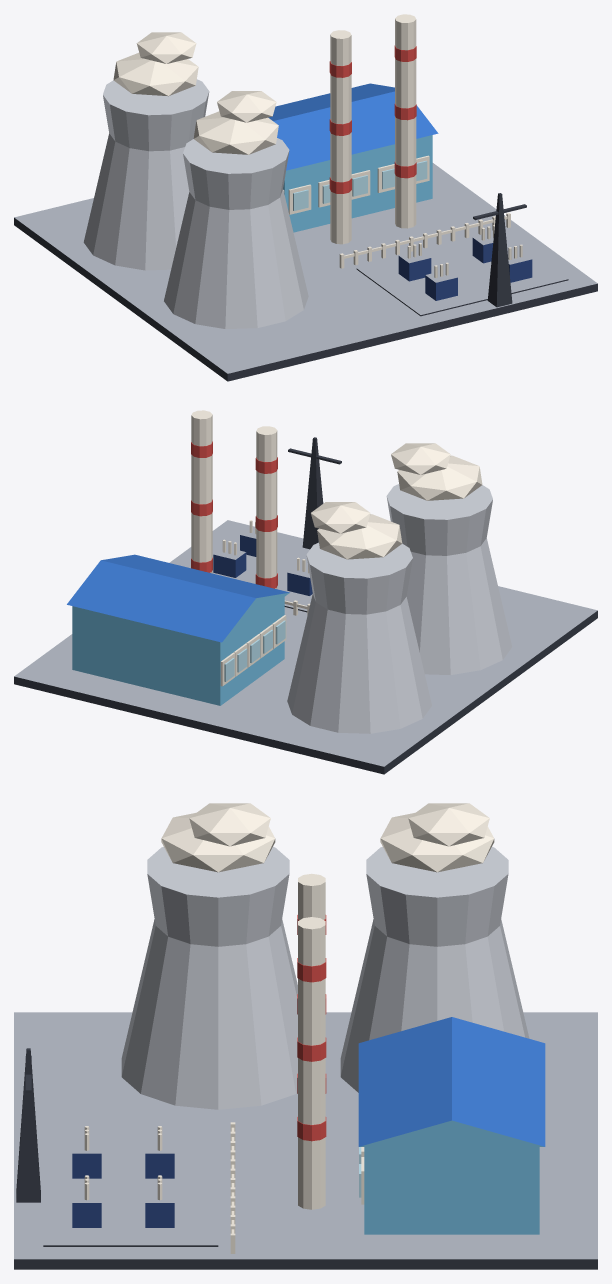
The model's file is public_power_plant.glb.
The picture shows the model from 3 angles, top to bottom: view 1: azimuth 30°, elevation 25°; view 2: azimuth 150°, elevation 25°; view 3: azimuth 270°, elevation 25°; orthographic projection. The views are drawn at different scales.
Visible parts, largest first — view 1: public_power_plant; view 2: public_power_plant; view 3: public_power_plant.
Boxes of the visible parts, <box> form: public_power_plant: <box>14,14,597,381</box>; public_power_plant: <box>14,410,597,774</box>; public_power_plant: <box>14,803,597,1269</box>.
Bounding box in the file's own units: 2 × 1.1 × 2.
